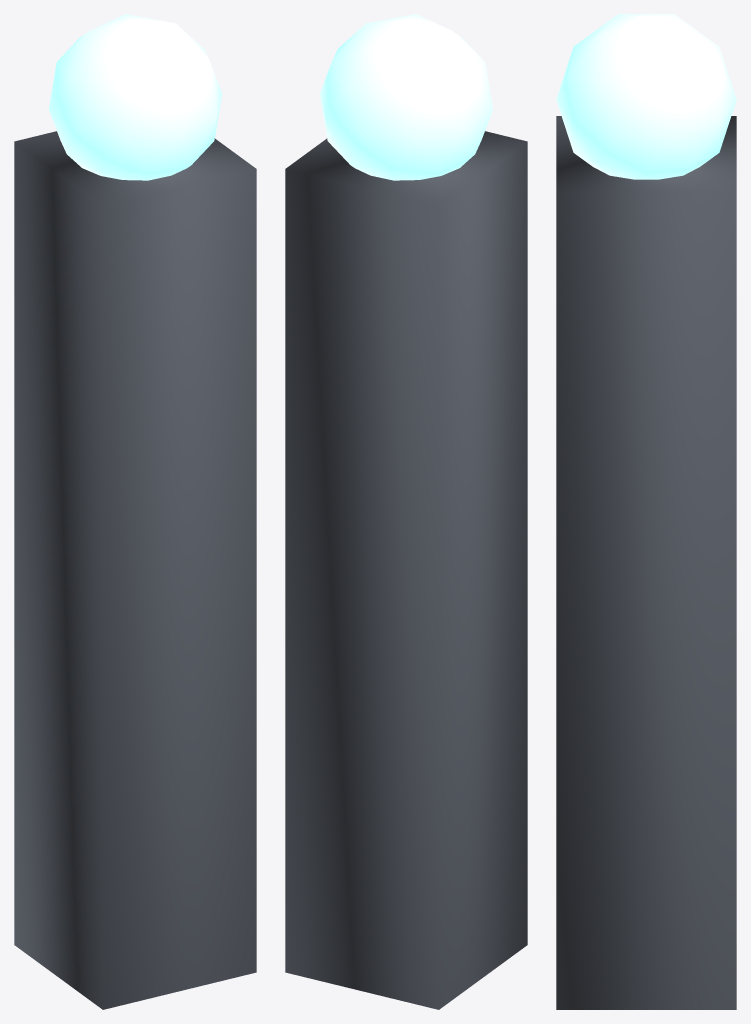
Rendered from rock_aurora_monolith_sentinel.glb.
3 views of the same model, side by side, from view 1: azimuth 30°, elevation 25°; view 2: azimuth 150°, elevation 25°; view 3: azimuth 270°, elevation 25° (orthographic).
Parts seen in each view (by area): view 1: Aurora_Sentinel_Pillar, Sentinel_Runic_Orb; view 2: Aurora_Sentinel_Pillar, Sentinel_Runic_Orb; view 3: Aurora_Sentinel_Pillar, Sentinel_Runic_Orb.
Part boxes in pixels (box(x1,y1,x2,y2)): Aurora_Sentinel_Pillar: box(14, 131, 256, 1009); Sentinel_Runic_Orb: box(48, 14, 221, 180); Aurora_Sentinel_Pillar: box(285, 131, 527, 1009); Sentinel_Runic_Orb: box(320, 14, 493, 180); Aurora_Sentinel_Pillar: box(556, 116, 736, 1009); Sentinel_Runic_Orb: box(556, 14, 736, 179).
Bounding box in the file's own units: 1.8 × 10.5 × 1.8.
